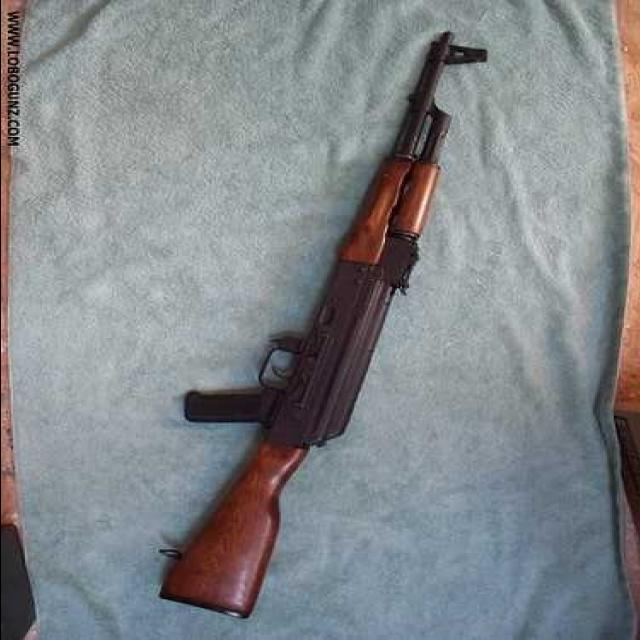heavyweapon: (107, 29, 508, 607)
